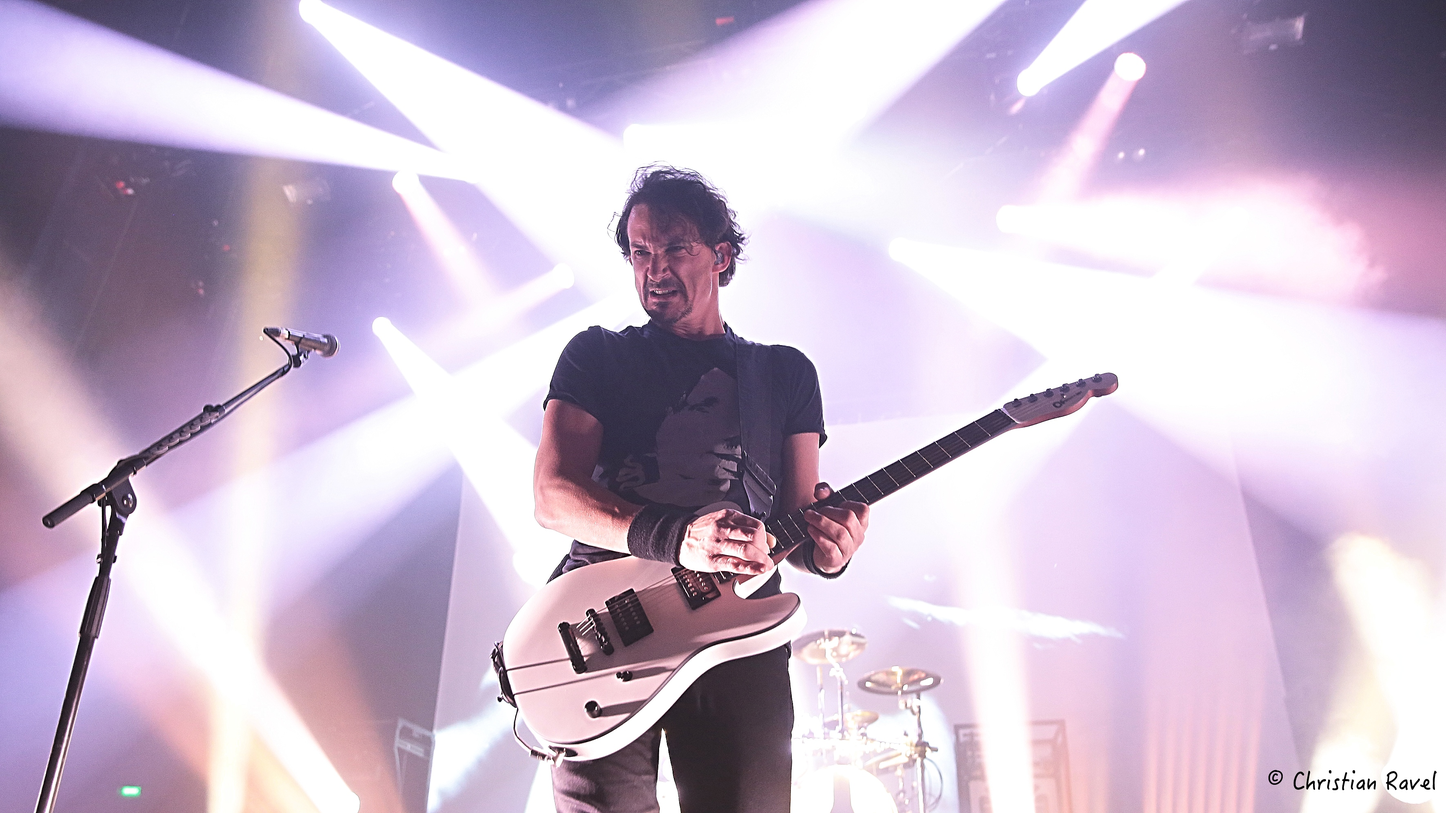acousticguitar: (500, 371, 1122, 770)
